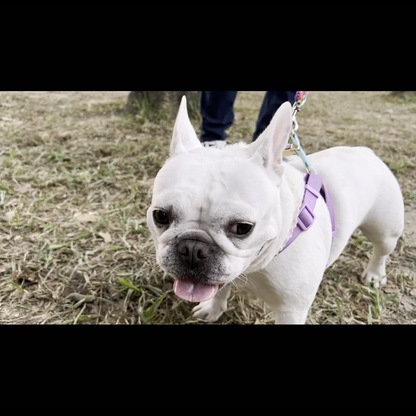bulldog: (142, 94, 407, 322)
